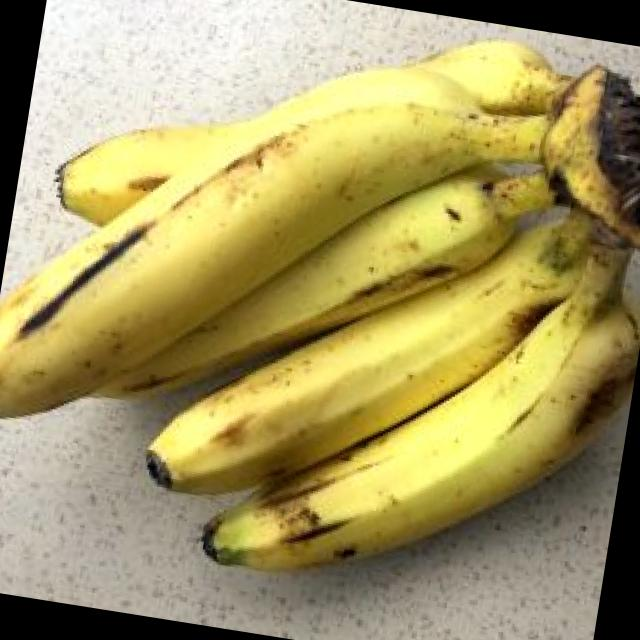banana: (107, 26, 564, 533)
